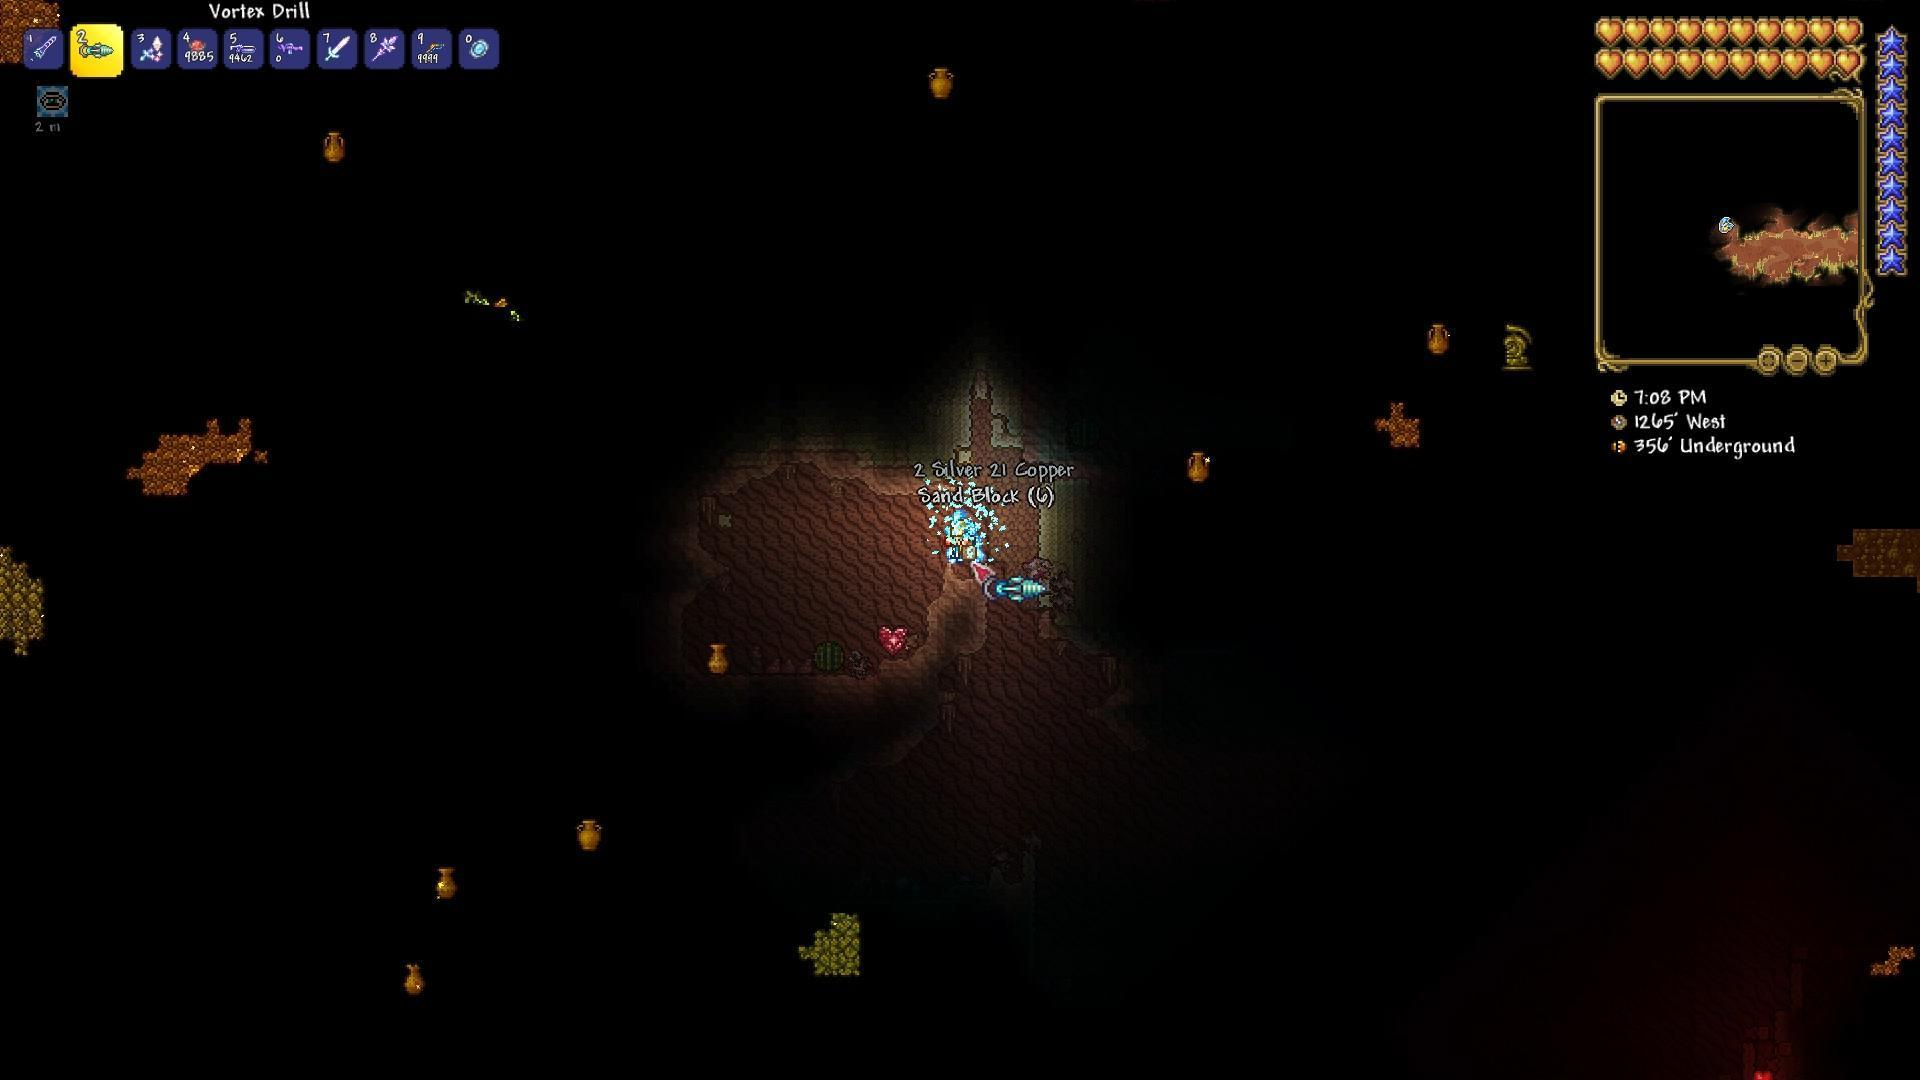lifeC: (874, 618, 910, 665)
